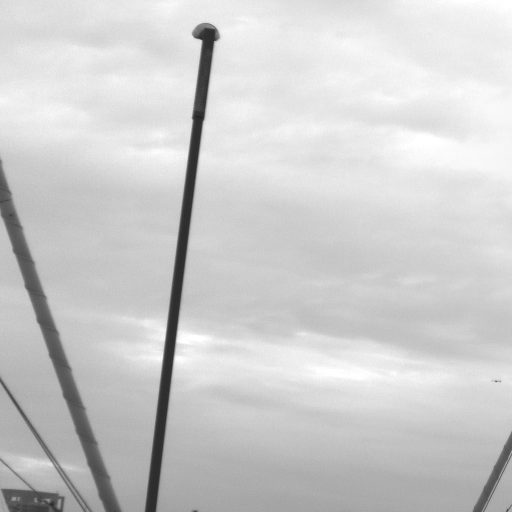uav: (493, 379, 501, 383)
